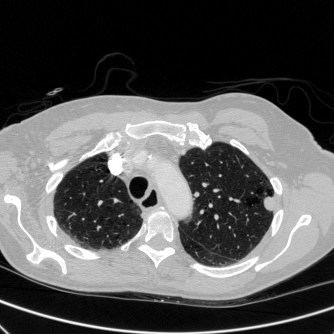nodule: (263, 197, 275, 209)
